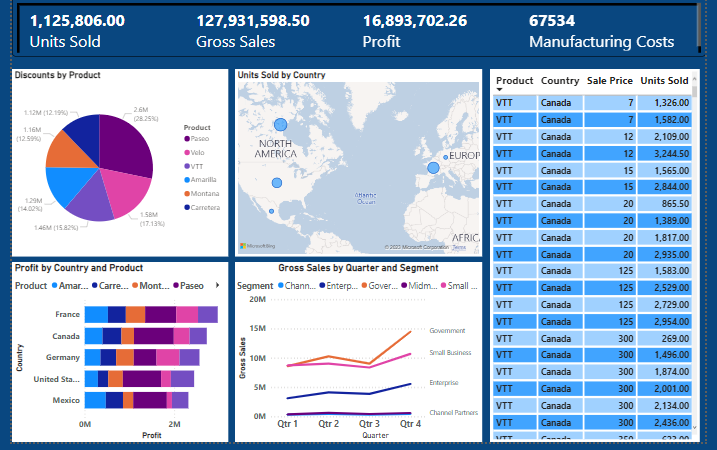

What the dashboard file says about the page in this screenshot:
{"tool":"powerbi","page":{"name":"Dashboard","canvas":[1280,819],"ordinal":0},"visuals":[{"type":"barChart","fields":{"Category":["financials.Country"],"Y":["Sum(financials.Profit)"],"Series":["financials.Product"]},"box":[0,486.1,398.6,333],"z":0},{"type":"lineChart","fields":{"Category":["financials.Date.Variation.Date Hierarchy.Quarter"],"Y":["Sum(financials.Gross Sales)"],"Series":["financials.Segment"]},"box":[412.1,486.1,455.8,333],"z":1000},{"type":"map","fields":{"Category":["financials.Country"],"Size":["Sum(financials.Units Sold)"]},"box":[412.1,131.2,455.8,346.5],"z":2000},{"type":"multiRowCard","fields":{"Values":["Sum(financials.Units Sold)","Sum(financials.Gross Sales)","Sum(financials.Profit)","Sum(financials.Manufacturing Price)"]},"box":[0,0,1280,107.6],"z":3000},{"type":"pieChart","fields":{"Y":["Sum(financials.Discounts)"],"Category":["financials.Product"]},"box":[0,131.2,398.6,346.5],"z":4000},{"type":"tableEx","fields":{"Values":["financials.Product","financials.Country","financials.Sale Price","financials.Units Sold"]},"box":[881.4,131.2,386.9,687.9],"z":5000}]}

Visuals, with their boxes in screenshot pixels (x1, y1, x2, y2), scaled from the page's 1280x819 canvas onto the 717x450 screenshot:
barChart - financials.Country x Sum(financials.Profit): {"left": 0, "top": 267, "right": 223, "bottom": 449}
lineChart - financials.Date.Variation.Date Hierarchy.Quarter x Sum(financials.Gross Sales): {"left": 231, "top": 267, "right": 486, "bottom": 449}
map - financials.Country x Sum(financials.Units Sold): {"left": 231, "top": 72, "right": 486, "bottom": 262}
multiRowCard - Sum(financials.Units Sold) x Sum(financials.Gross Sales): {"left": 0, "top": 0, "right": 716, "bottom": 59}
pieChart - Sum(financials.Discounts) x financials.Product: {"left": 0, "top": 72, "right": 223, "bottom": 262}
tableEx - financials.Product x financials.Country: {"left": 494, "top": 72, "right": 710, "bottom": 449}
